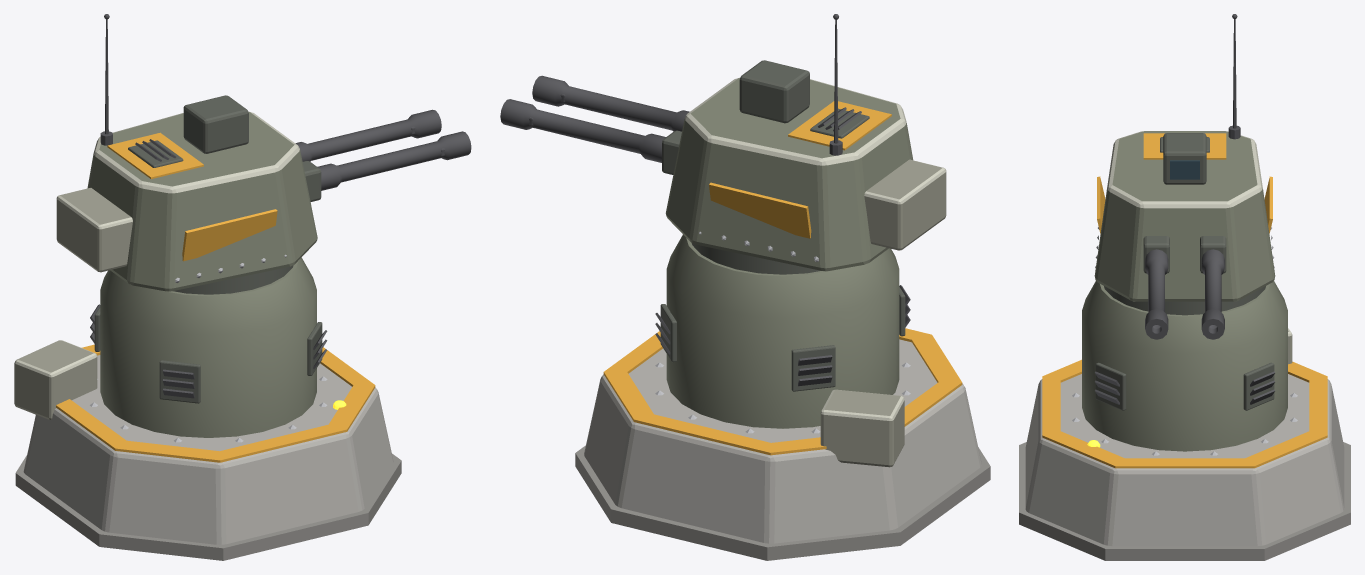
The model's file is gun_turret_orange.glb.
The picture shows the model from 3 angles, left to right: view 1: azimuth 30°, elevation 25°; view 2: azimuth 150°, elevation 25°; view 3: azimuth 270°, elevation 25°; orthographic projection. The views are drawn at different scales.
Parts seen in each view (by area): view 1: Body, Turret, Barrel; view 2: Body, Turret, Barrel; view 3: Body, Turret, Barrel.
Part boxes in pixels (box(x1,y1,x2,y2)): Body: box(14, 257, 401, 560); Turret: box(56, 14, 321, 294); Barrel: box(295, 109, 471, 190); Body: box(575, 235, 990, 560); Turret: box(662, 14, 946, 274); Barrel: box(500, 75, 689, 162); Body: box(1019, 281, 1350, 560); Turret: box(1094, 14, 1275, 315); Barrel: box(1145, 249, 1224, 339).
Size of the model in its own units: 2.6 by 2.94 by 2.
Materials: 1 (1 with a texture image).
